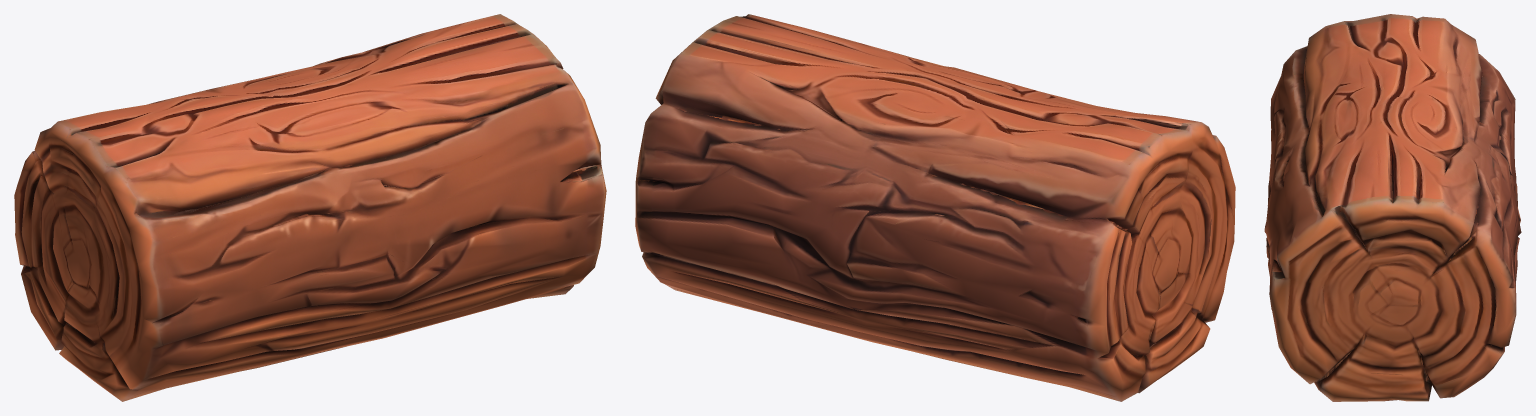
Rendered from Wood.fbx.
3 renders of one model, left to right at view 1: azimuth 30°, elevation 25°; view 2: azimuth 150°, elevation 25°; view 3: azimuth 270°, elevation 25°, orthographic. The views are drawn at different scales.
Visible parts, largest first — view 1: Mesh_0; view 2: Mesh_0; view 3: Mesh_0.
Part boxes in pixels (<box>): Mesh_0: <box>14,14,606,401</box>; Mesh_0: <box>635,14,1235,401</box>; Mesh_0: <box>1264,14,1521,401</box>.
Size of the model in its own units: 200 by 98.83 by 113.
1 material, 1 textured.
